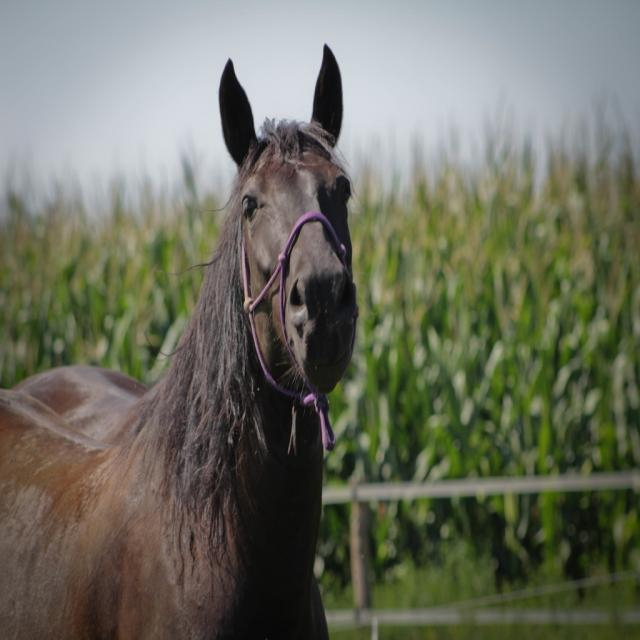Horse: (0, 45, 356, 640)
